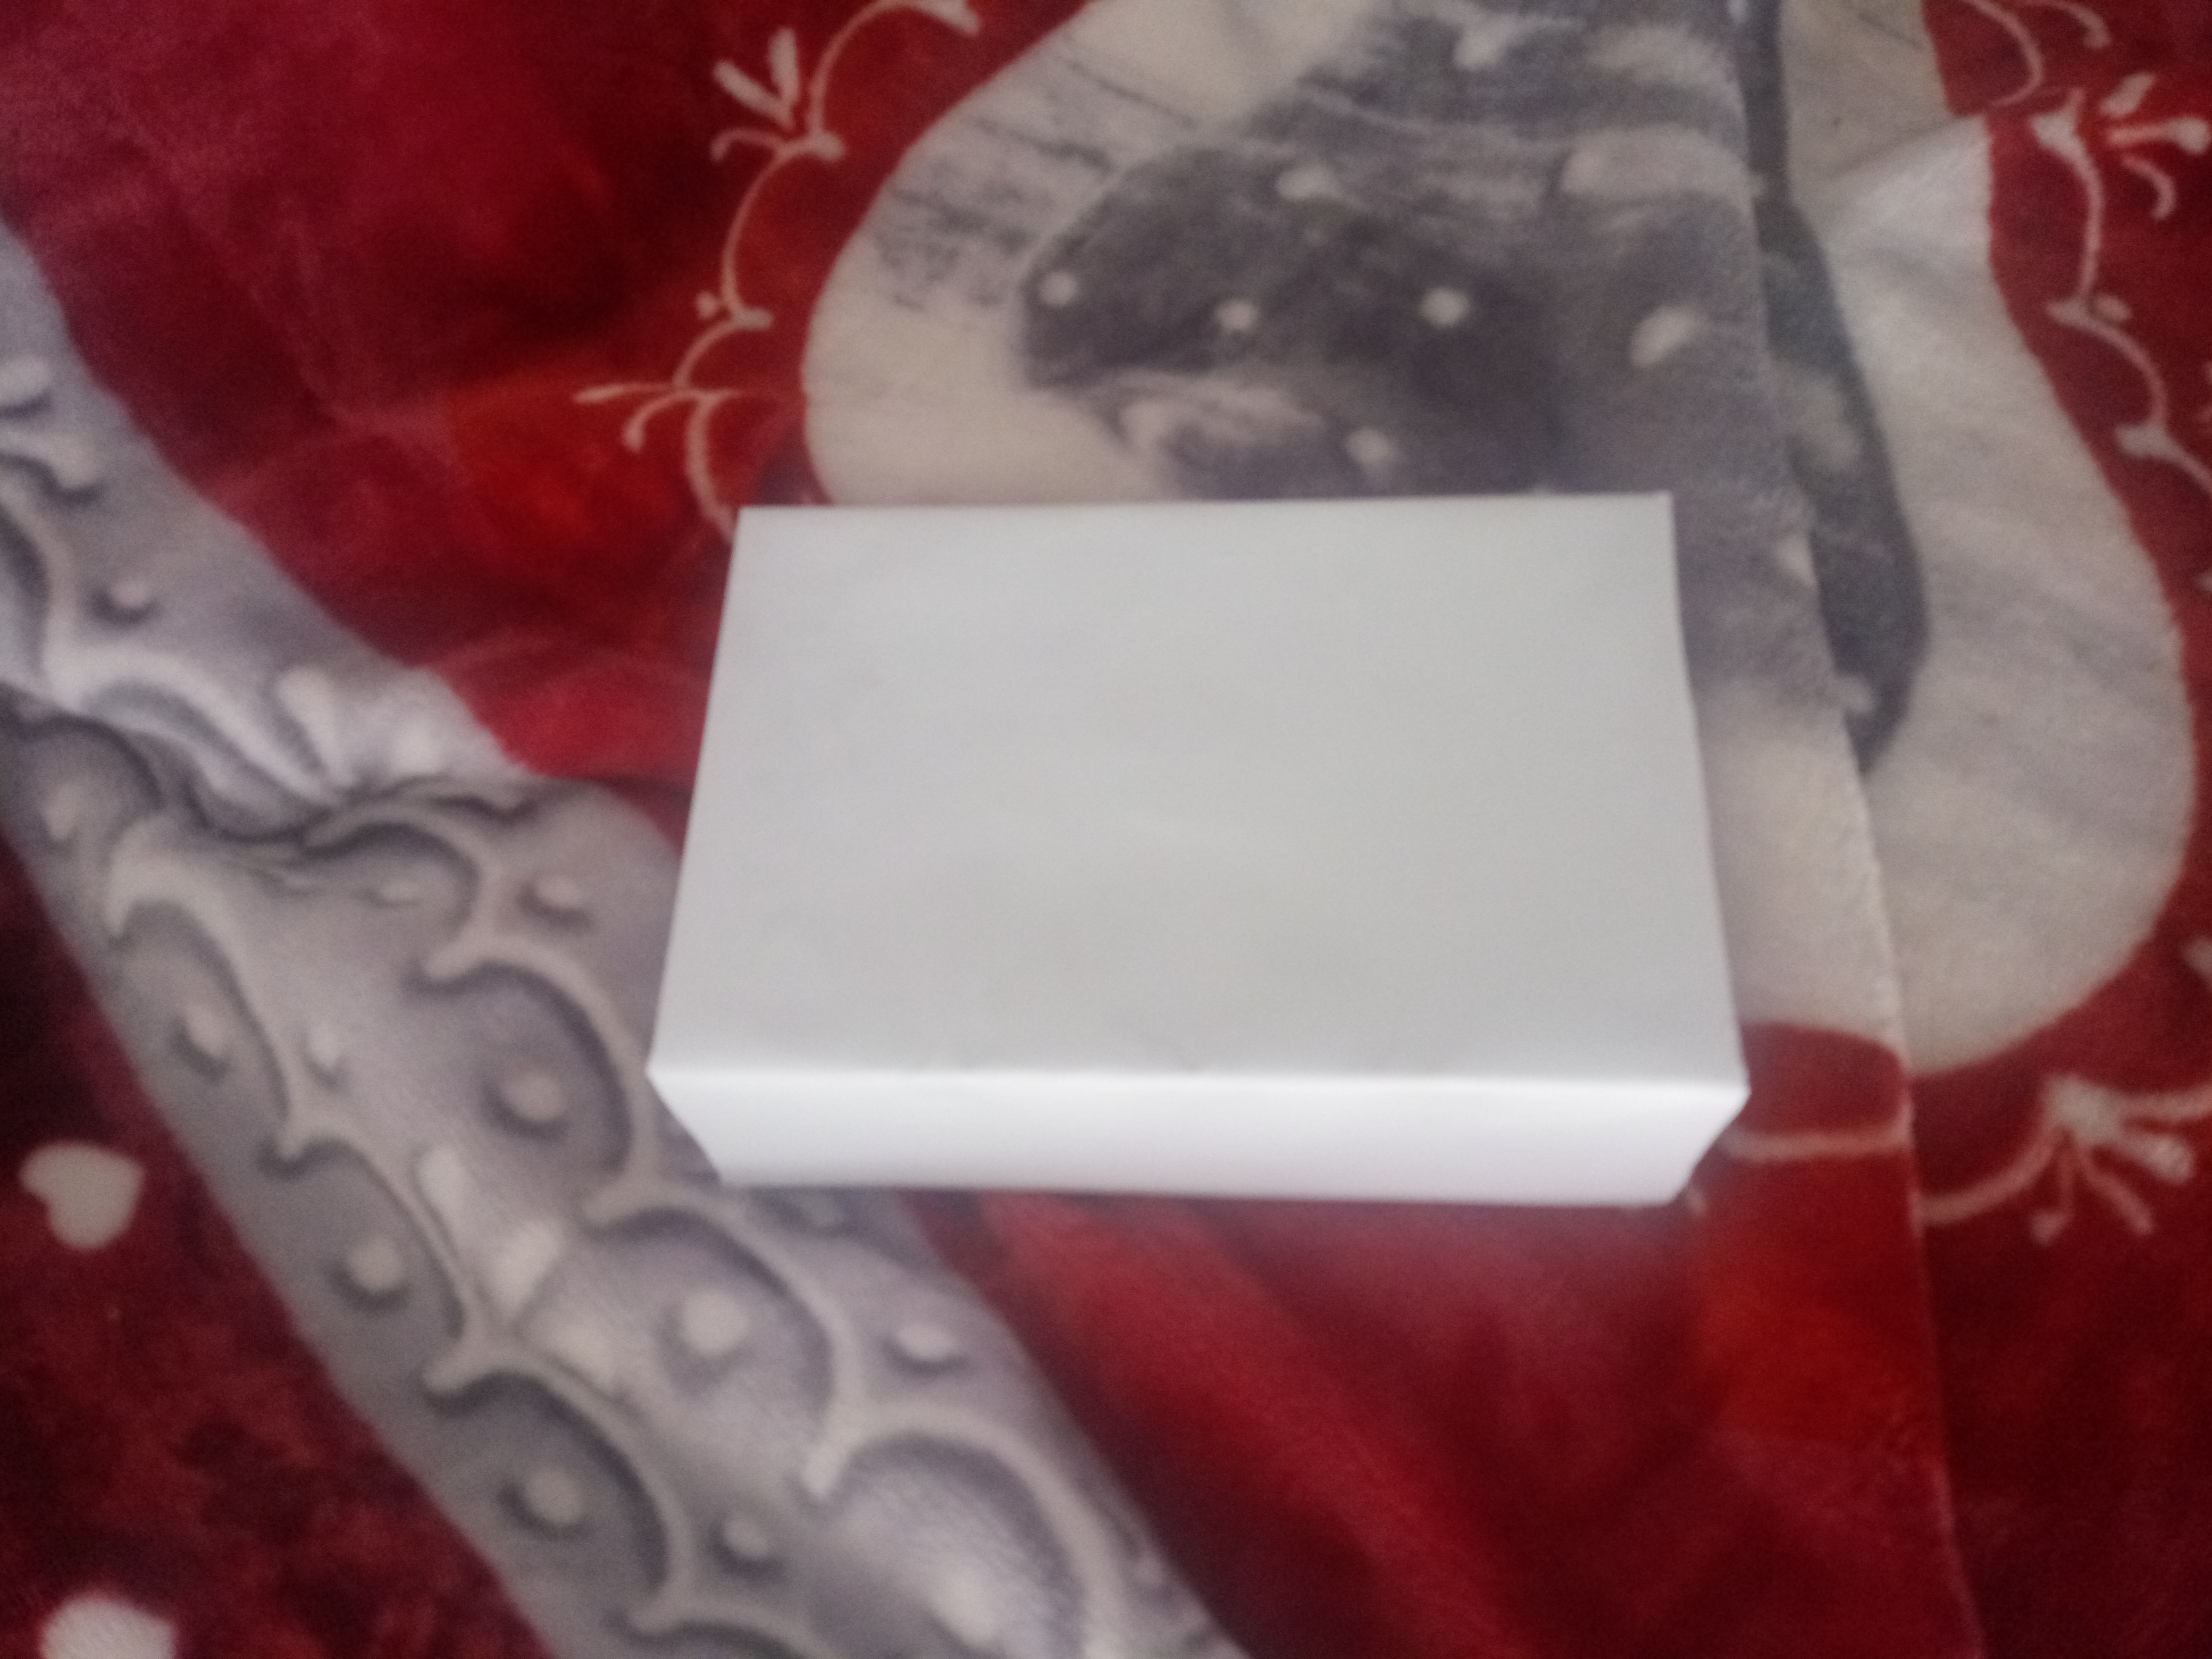white_box: (589, 439, 1810, 1305)
